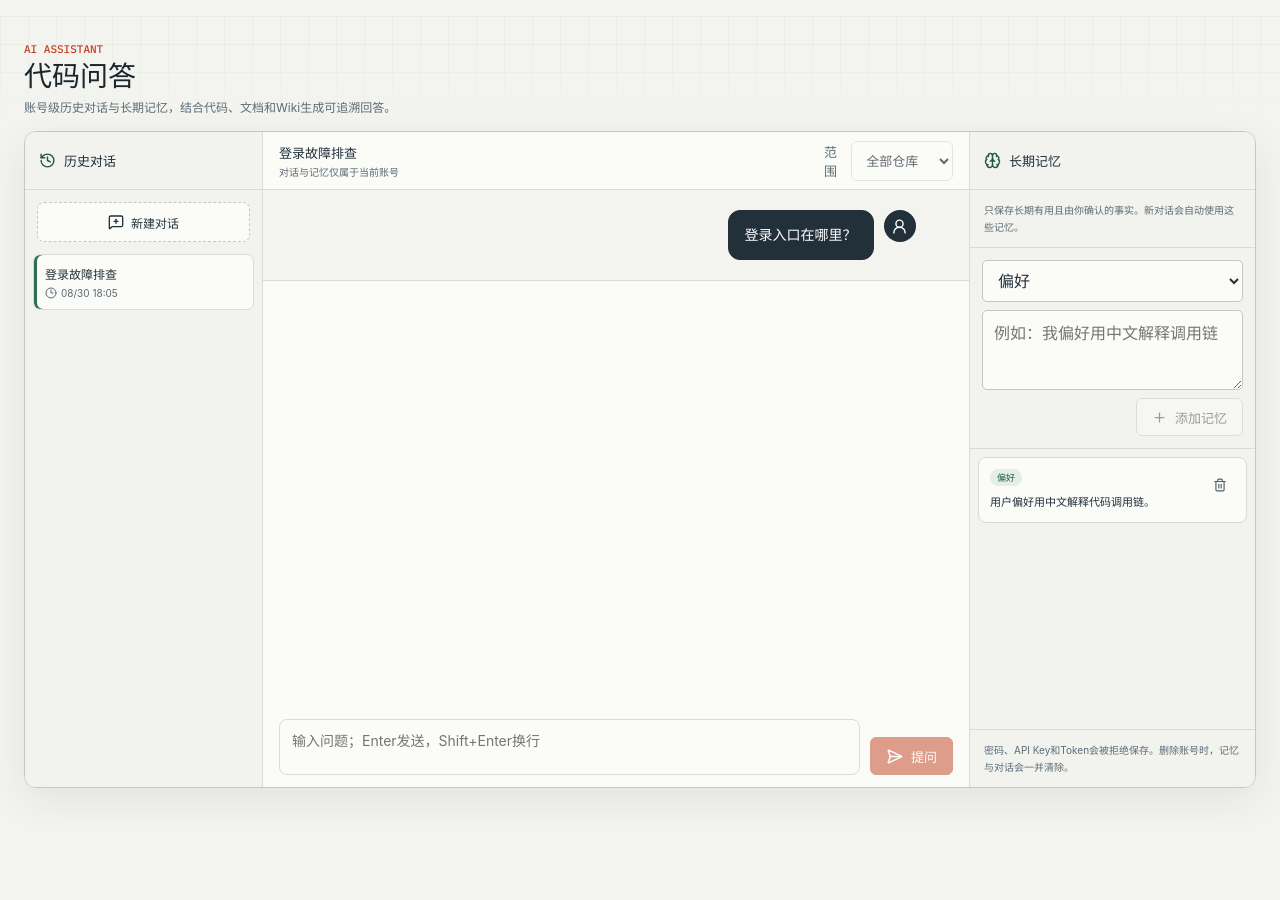
it: ChatView account workspace › reuses the request id when session creation response is lost
The width and height of the screenshot is (1280, 900).
Click the button with class "chat-new-session" at coordinates (144, 222), box [37,202,250,242]
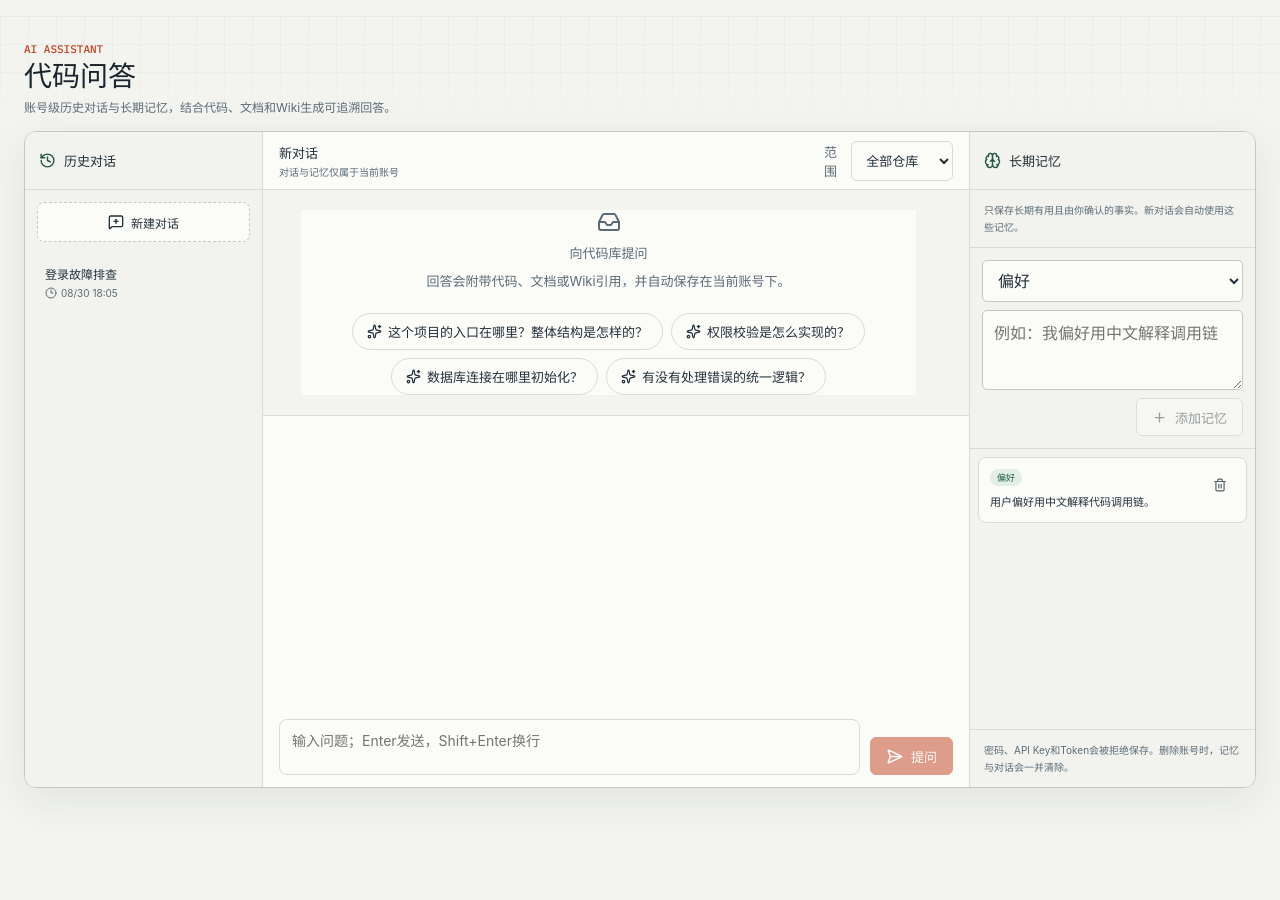
Type "创建会话也要幂等" into the text box named "提问内容" at coordinates (570, 747), box [279,719,860,775]
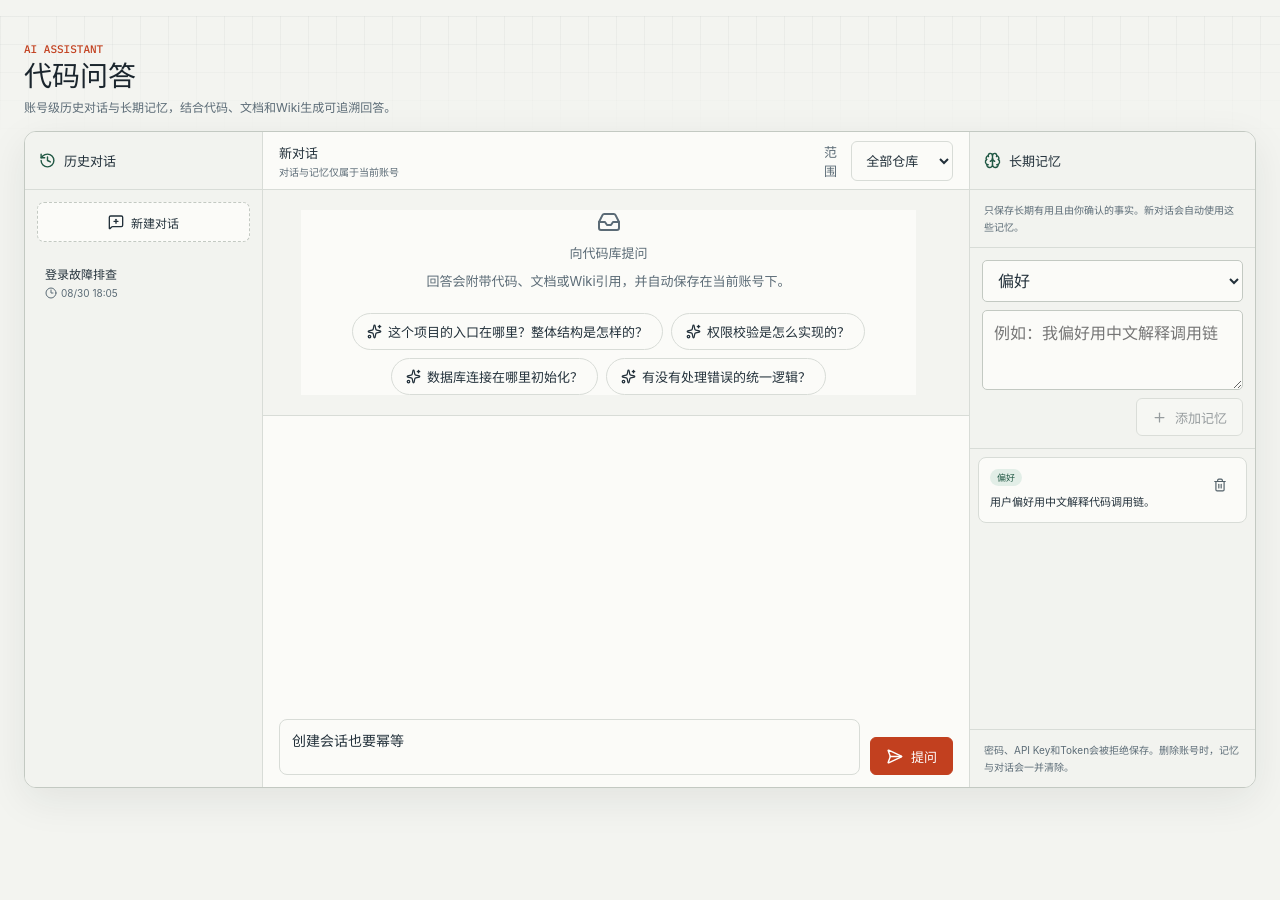
Submit the form with class "chat-composer", box [263,415,969,787]
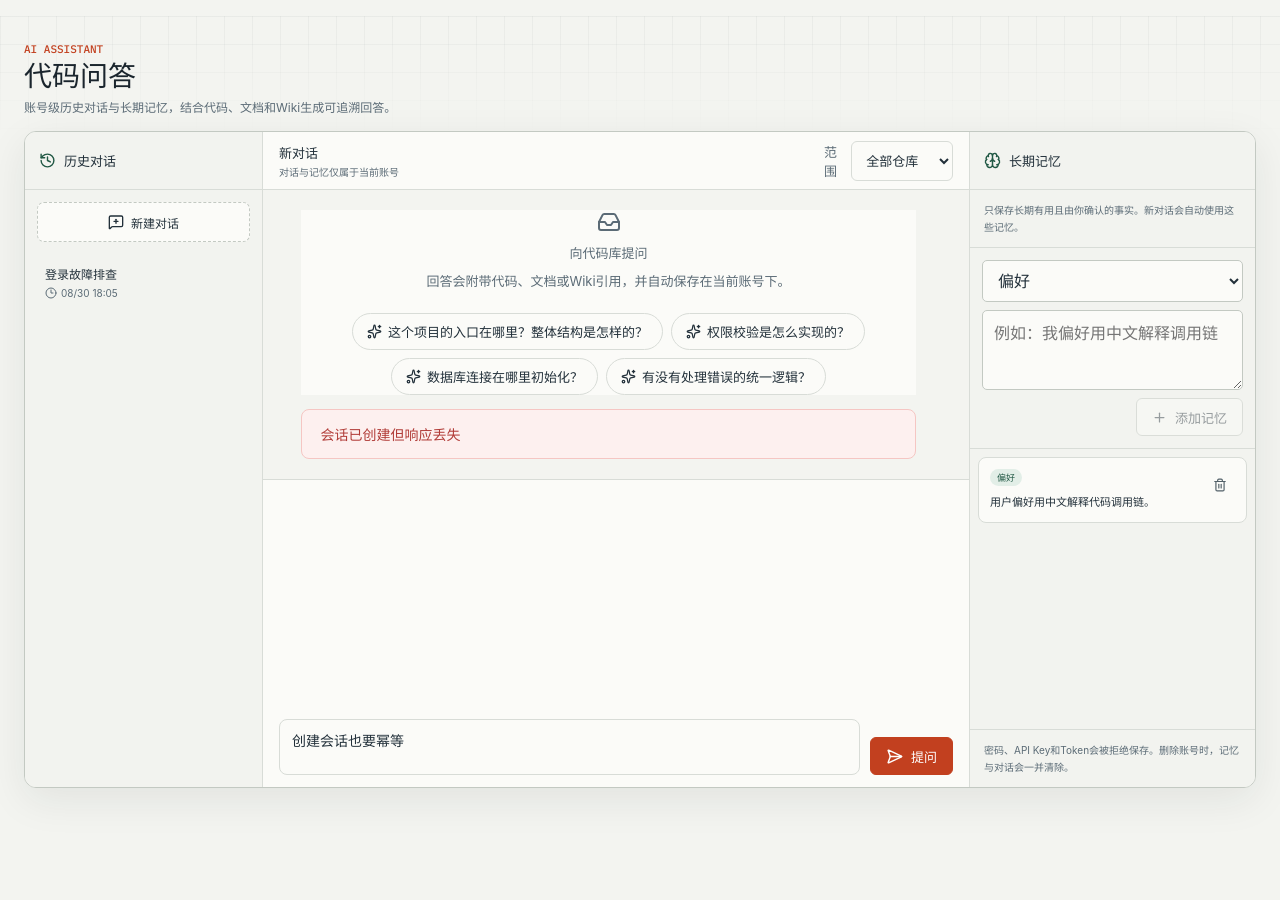
Now the text with class "error-banner" reads "会话已创建但响应丢失", box [320,426,460,443]
Submit the form with class "chat-composer", box [263,479,969,787]
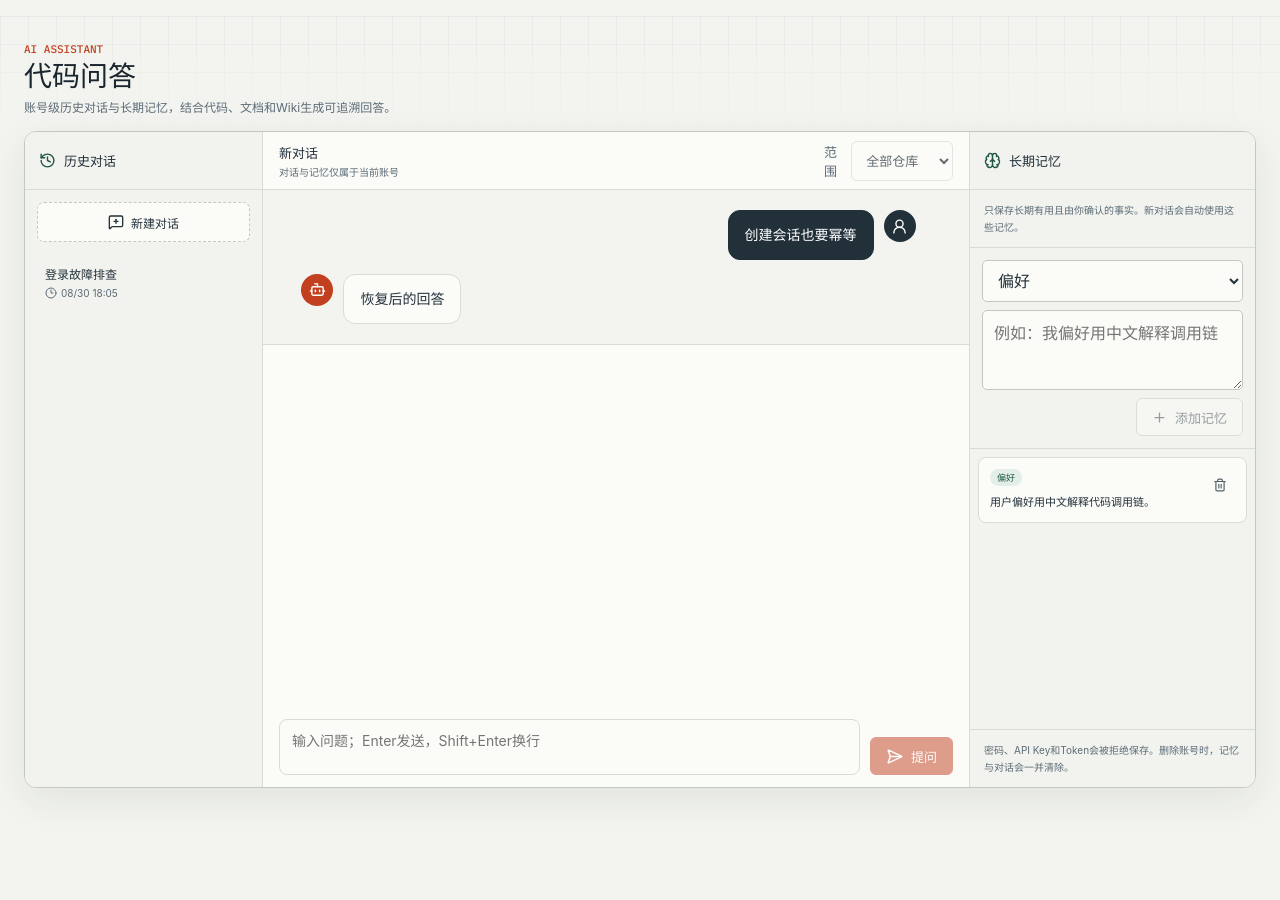
Now the element with class "chat-thread" shows "恢复后的回答", box [360,290,444,307]
